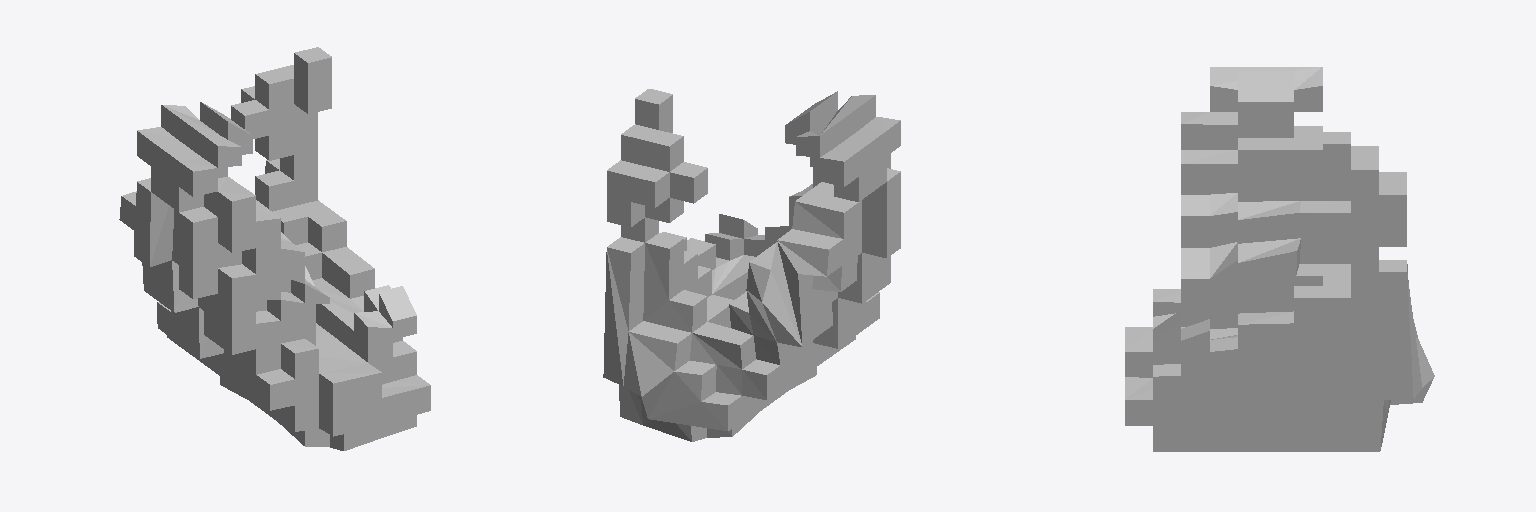
The model's file is Mini-Bot_Wizard_LOD0-1.obj.
3 views of the same model, side by side, from view 1: azimuth 30°, elevation 25°; view 2: azimuth 150°, elevation 25°; view 3: azimuth 270°, elevation 25° (orthographic).
Parts seen in each view (by area): view 1: Mini-Bot_Wizard_LOD0-1; view 2: Mini-Bot_Wizard_LOD0-1; view 3: Mini-Bot_Wizard_LOD0-1.
Part boxes in pixels (bbox=[...]): Mini-Bot_Wizard_LOD0-1: bbox=[119, 47, 430, 450]; Mini-Bot_Wizard_LOD0-1: bbox=[603, 89, 900, 441]; Mini-Bot_Wizard_LOD0-1: bbox=[1125, 67, 1434, 451].
Bounding box in the file's own units: 0.8 × 1.26 × 1.1.